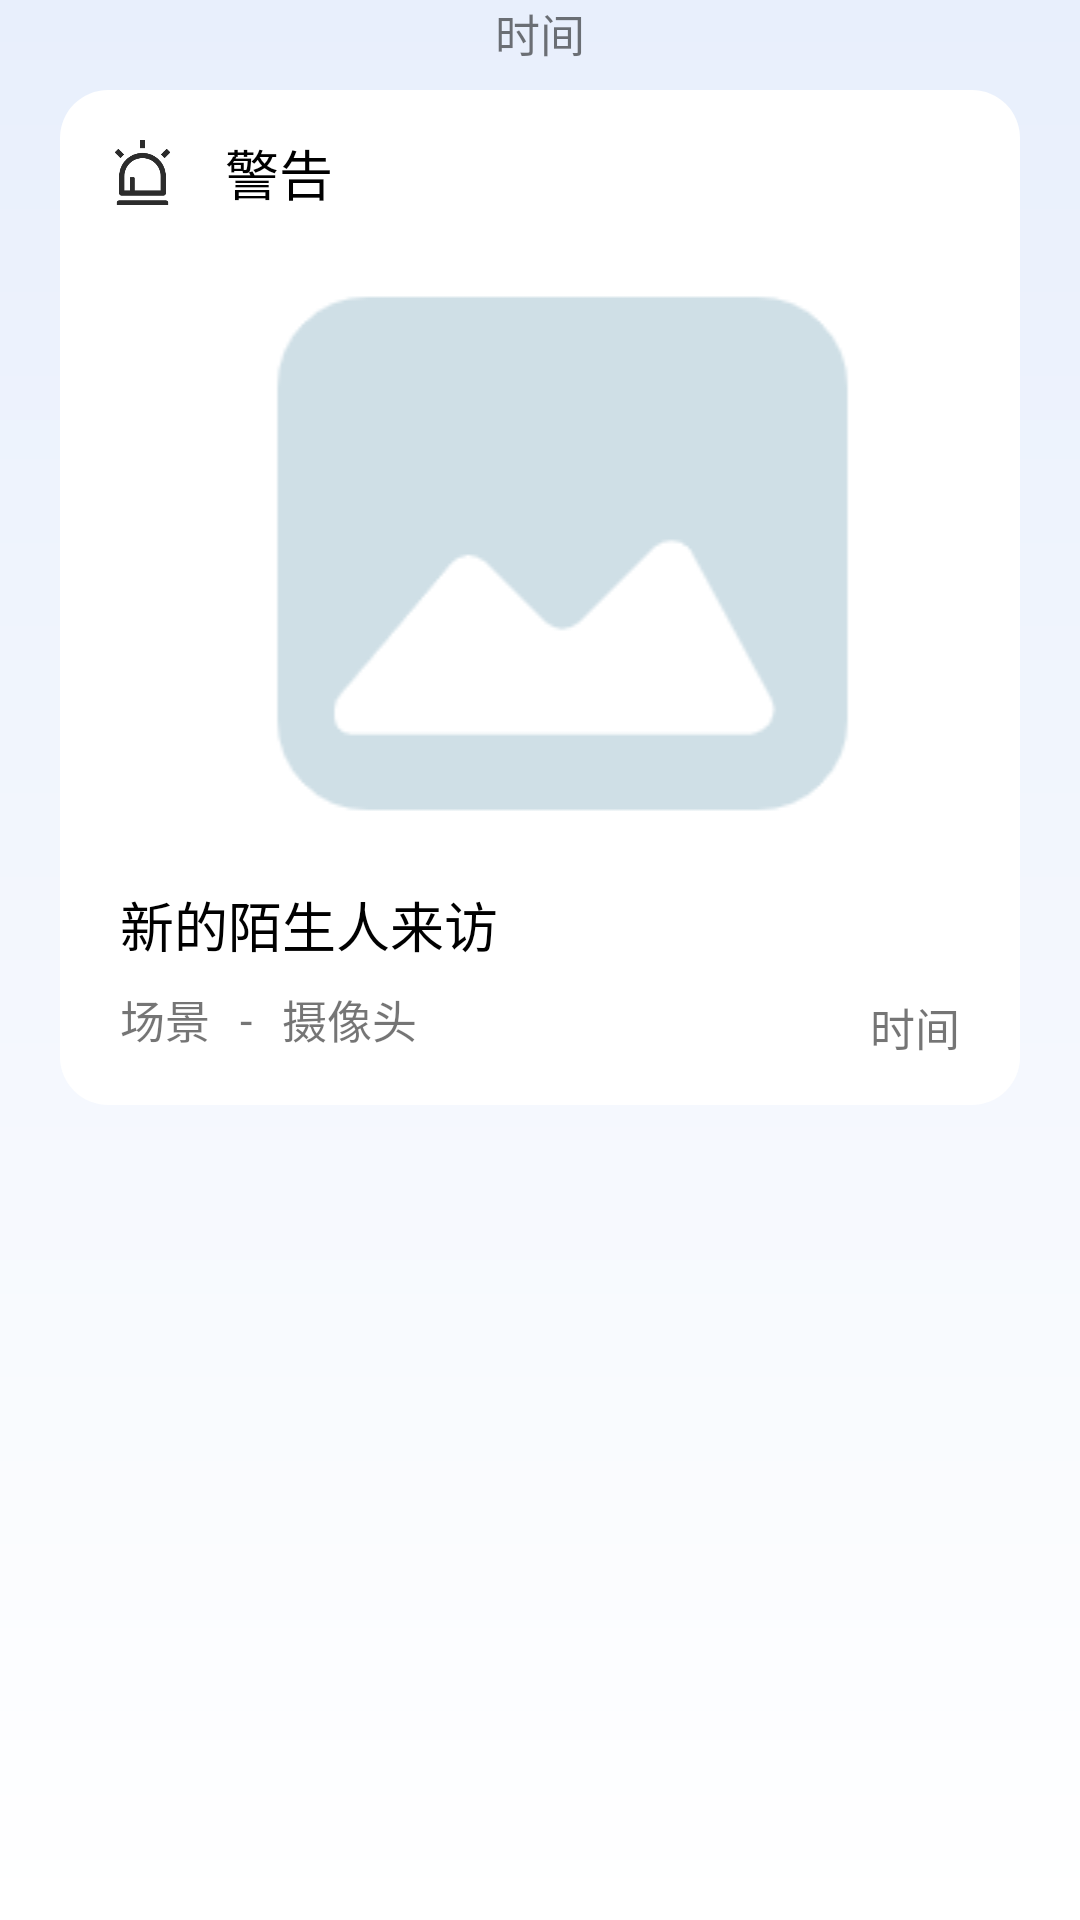

Named icons in this screenshot (1080 x 1920) and their centers, (x=x, y=y):
alert: (x=142, y=172)
